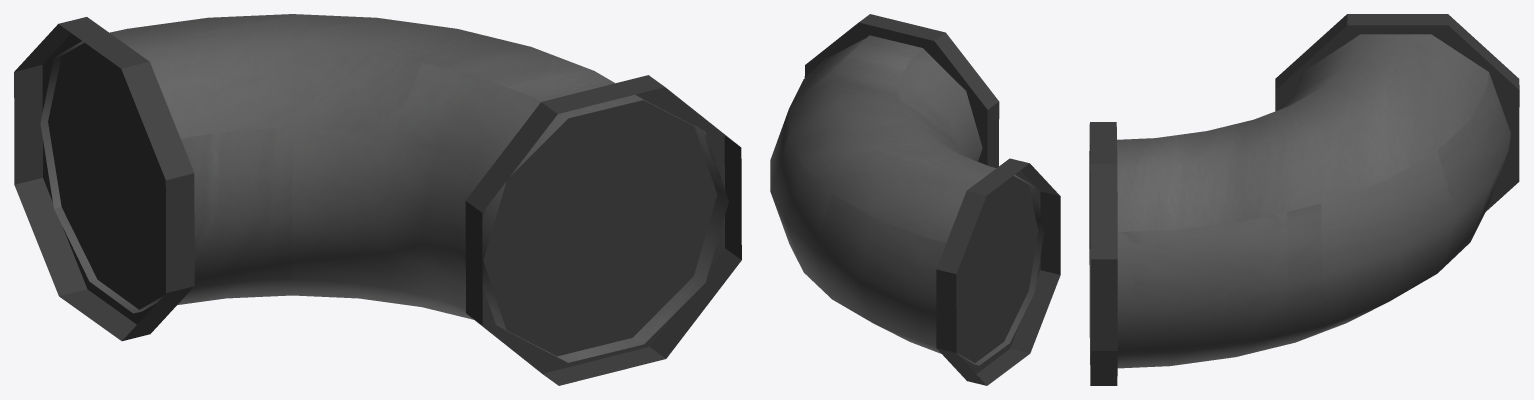
The model's file is pipe turn.fbx.
3 views of the same model, side by side, from view 1: azimuth 30°, elevation 25°; view 2: azimuth 150°, elevation 25°; view 3: azimuth 270°, elevation 25° (orthographic). The views are drawn at different scales.
Parts seen in each view (by area): view 1: pipe_curve; view 2: pipe_curve; view 3: pipe_curve.
Boxes of the visible parts, x1=… form: pipe_curve: x1=14, y1=14, x2=741, y2=385; pipe_curve: x1=770, y1=14, x2=1060, y2=385; pipe_curve: x1=1089, y1=14, x2=1519, y2=385.
Bounding box in the file's own units: 58.76 × 33.37 × 58.07.
1 material, 1 textured.
